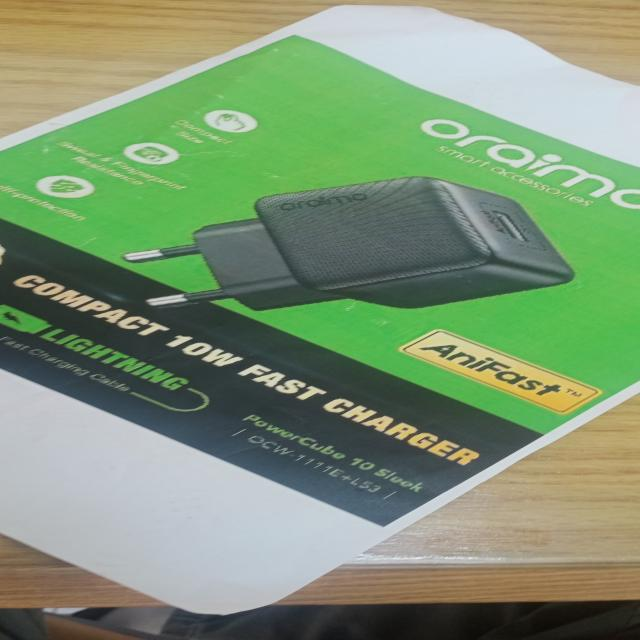PowerCube 10 Sleek OCW-1111ExL53: (218, 405, 457, 506)
